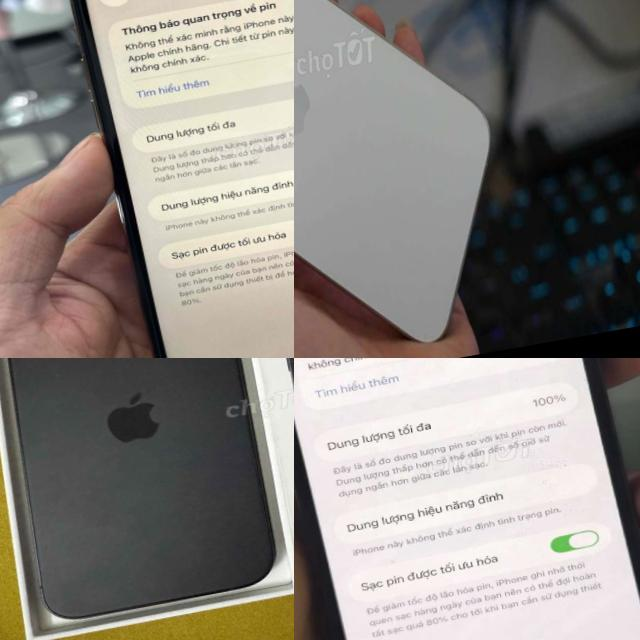gen_11: (49, 0, 294, 358)
gen_12_13: (294, 358, 640, 640)
gen_15: (294, 0, 533, 358)
gen_16: (7, 358, 272, 618)
